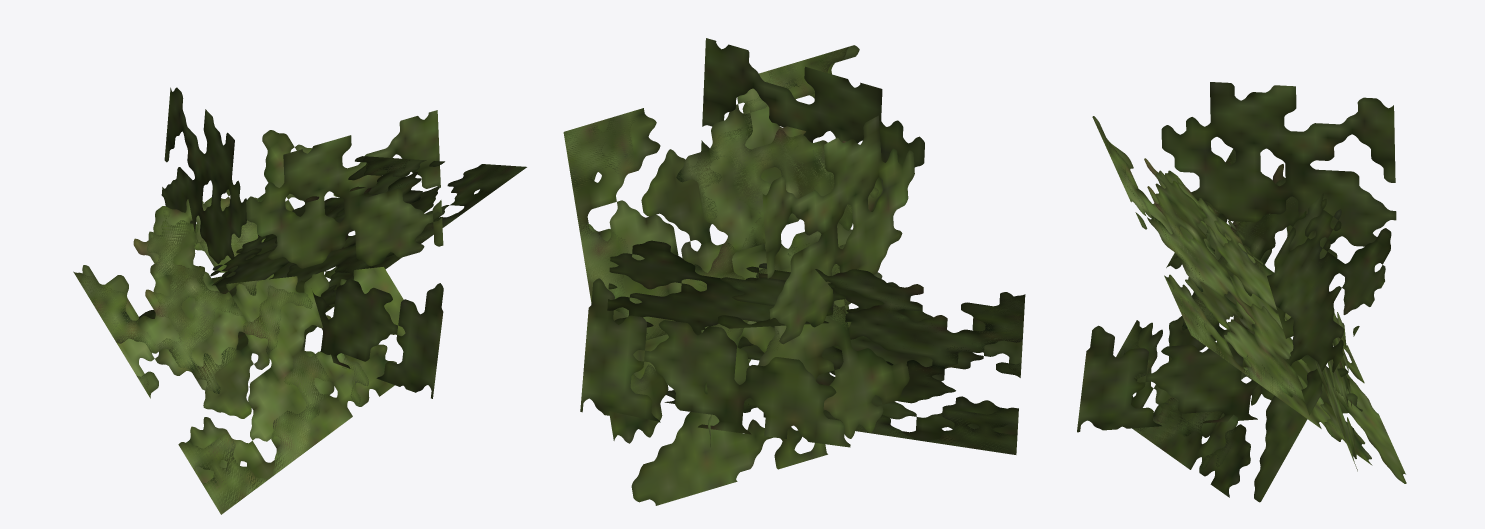
Rendered from oak_leaves_slab.obj.
3 renders of one model, left to right at view 1: azimuth 30°, elevation 25°; view 2: azimuth 150°, elevation 25°; view 3: azimuth 270°, elevation 25°, orthographic. The views are drawn at different scales.
Parts seen in each view (by area): view 1: cube; view 2: cube; view 3: cube.
Part boxes in pixels (x1,y1,x2,y2): cube: (73, 87, 526, 514); cube: (563, 38, 1025, 505); cube: (1077, 82, 1406, 502).
Size of the model in its own units: 2.99 by 2.22 by 2.1.
